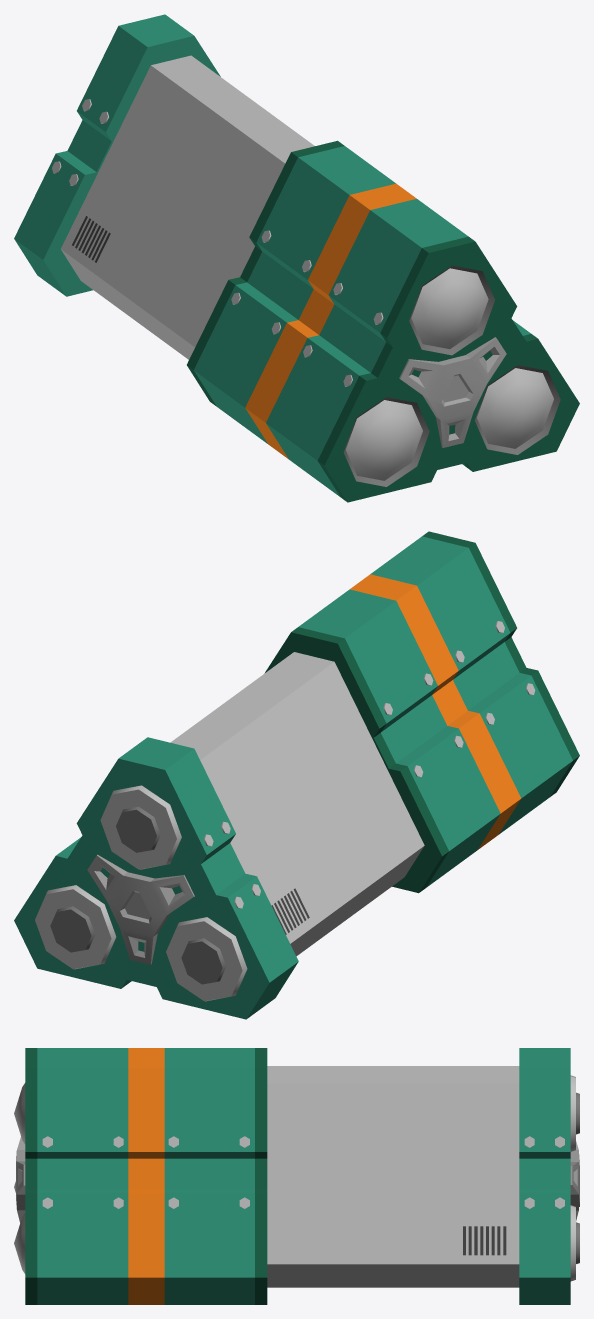
File: prop_001.fbx
3 renders of one model, top to bottom at view 1: azimuth 30°, elevation 25°; view 2: azimuth 150°, elevation 25°; view 3: azimuth 270°, elevation 25°, orthographic. The views are drawn at different scales.
Visible parts, largest first — view 1: prop_001; view 2: prop_001; view 3: prop_001.
Part boxes in pixels (x1,y1,x2,y2): prop_001: [14, 14, 579, 502]; prop_001: [14, 531, 579, 1019]; prop_001: [14, 1048, 579, 1304].
Bounding box in the file's own units: 285 × 621 × 245.
